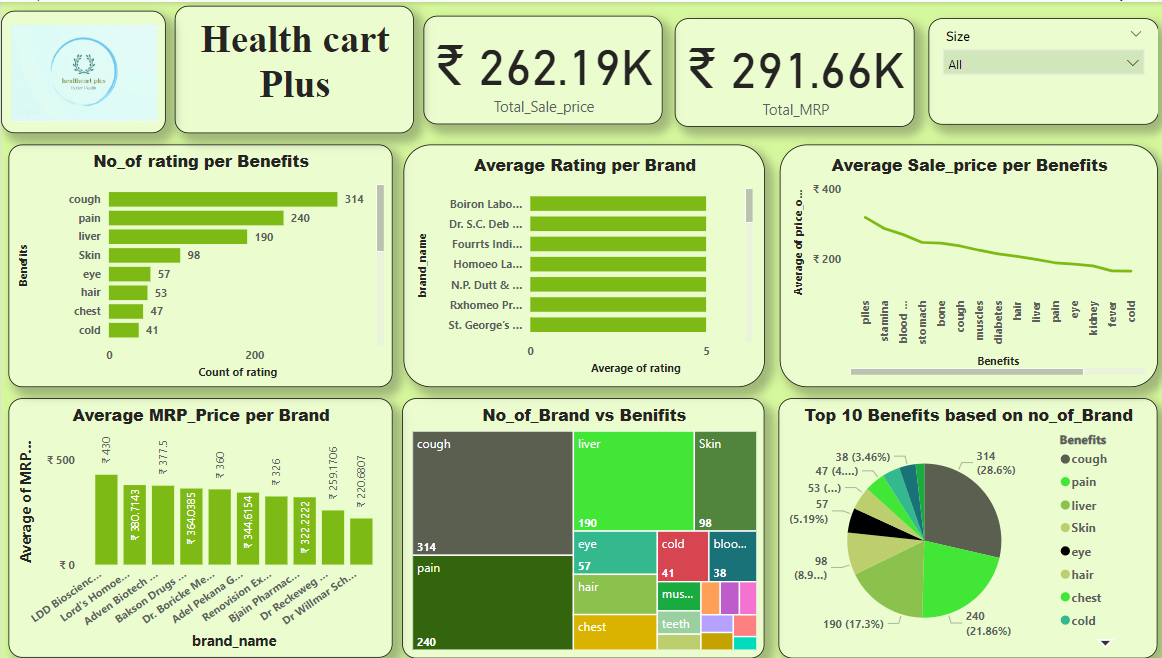

What the dashboard file says about the page in this screenshot:
{"tool":"powerbi","page":{"name":"Page 3","canvas":[1280,720],"ordinal":3},"visuals":[{"type":"columnChart","title":"Average MRP_Price per Brand","fields":{"Category":["medicine_details_2.brand_name"],"Y":["medicine_list.MRP_of_the_bottle"]},"box":[8.8,435,421.2,285],"z":0},{"type":"pieChart","title":"Top 10 Benefits based on no_of_Brand","fields":{"Category":["medicine_details_2.Benefits"],"Y":["medicine_details_2.brand_name"]},"box":[853.5,435,415.8,285.4],"z":1000},{"type":"clusteredBarChart","title":"No_of rating per Benefits","fields":{"Category":["medicine_details_2.Benefits"],"Y":["medicine_details_2.rating"]},"box":[8.8,156.2,421.2,266.2],"z":2000},{"type":"lineChart","title":"Average Sale_price per Benefits ","fields":{"Category":["medicine_details_2.Benefits"],"Y":["medicine_list.price_of_the_bottle"]},"box":[855,156.2,415,266.2],"z":3000},{"type":"barChart","title":"Average Rating per Brand","fields":{"Category":["medicine_details_2.brand_name"],"Y":["medicine_details_2.rating"]},"box":[441.9,156.4,396.6,266.2],"z":4000},{"type":"treemap","title":"No_of_Brand vs Benifits","fields":{"Group":["medicine_details_2.Benefits"],"Values":["medicine_details_2.brand_name"]},"box":[440.5,435,397.9,285.4],"z":5000},{"type":"slicer","fields":{"Values":["medicine_list.Size"]},"box":[1018.2,17.8,252.5,116.6],"z":6000},{"type":"card","fields":{"Values":["medicine_list.Total_MRP"]},"box":[739.6,17.8,263.5,119.4],"z":7000},{"type":"card","fields":{"Values":["medicine_list.Total_Sale_price"]},"box":[463.8,15.1,262.1,119.4],"z":8000},{"type":"textbox","box":[190.7,4.1,262.1,140],"z":9000},{"type":"image","box":[0,9.6,181.1,134.5],"z":10000}]}

Visuals, with their boxes in screenshot pixels (x1, y1, x2, y2), scaled from the page's 1280x720 canvas onto the 1162x658 screenshot:
"Average MRP_Price per Brand" columnChart: {"x1": 8, "y1": 398, "x2": 390, "y2": 657}
"Top 10 Benefits based on no_of_Brand" pieChart: {"x1": 775, "y1": 398, "x2": 1152, "y2": 657}
"No_of rating per Benefits" clusteredBarChart: {"x1": 8, "y1": 143, "x2": 390, "y2": 386}
"Average Sale_price per Benefits " lineChart: {"x1": 776, "y1": 143, "x2": 1153, "y2": 386}
"Average Rating per Brand" barChart: {"x1": 401, "y1": 143, "x2": 761, "y2": 386}
"No_of_Brand vs Benifits" treemap: {"x1": 400, "y1": 398, "x2": 761, "y2": 657}
slicer - medicine_list.Size: {"x1": 924, "y1": 16, "x2": 1154, "y2": 123}
card - medicine_list.Total_MRP: {"x1": 671, "y1": 16, "x2": 911, "y2": 125}
card - medicine_list.Total_Sale_price: {"x1": 421, "y1": 14, "x2": 659, "y2": 123}
textbox: {"x1": 173, "y1": 4, "x2": 411, "y2": 132}
image: {"x1": 0, "y1": 9, "x2": 164, "y2": 132}
